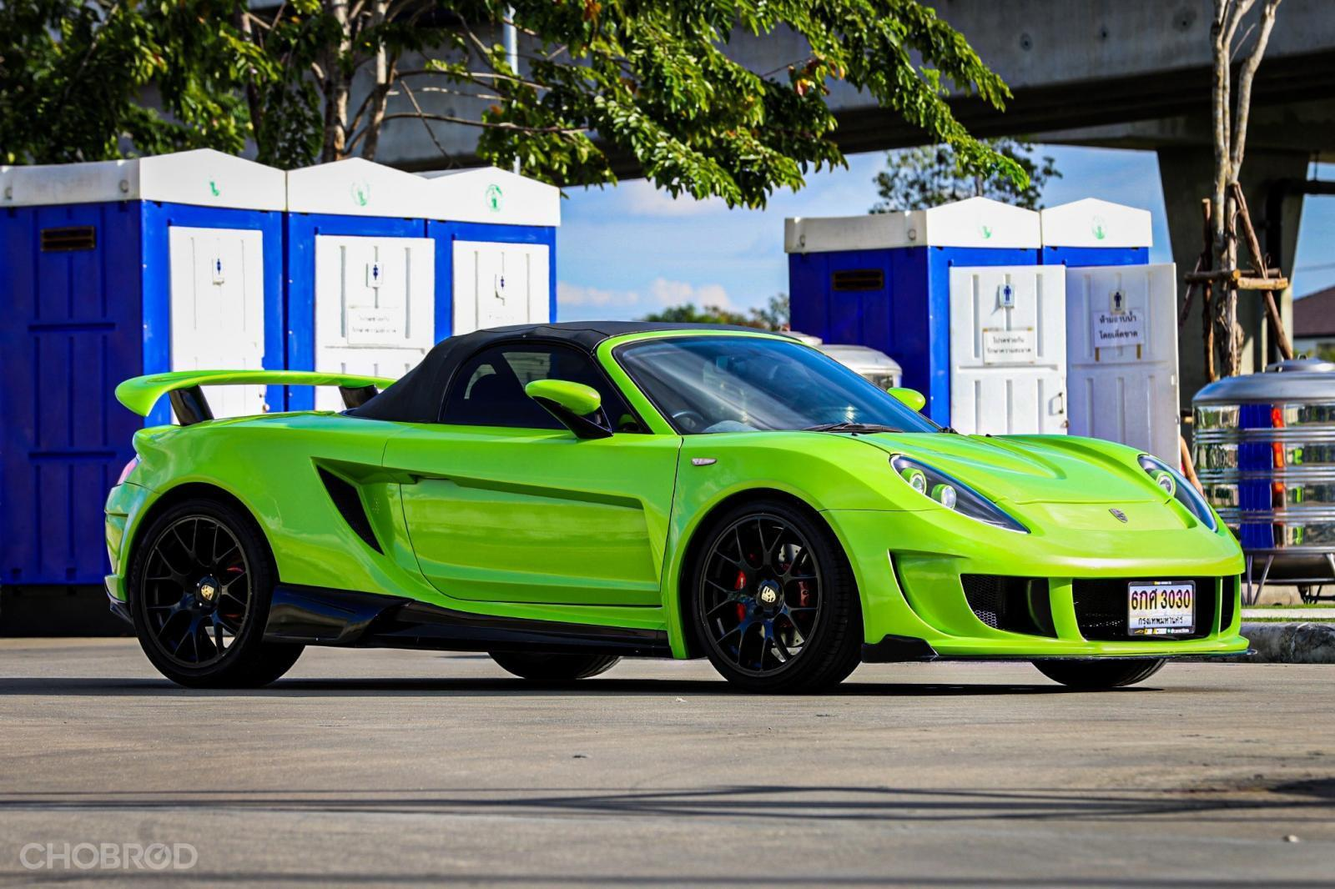license-plate: (1123, 578, 1197, 641)
